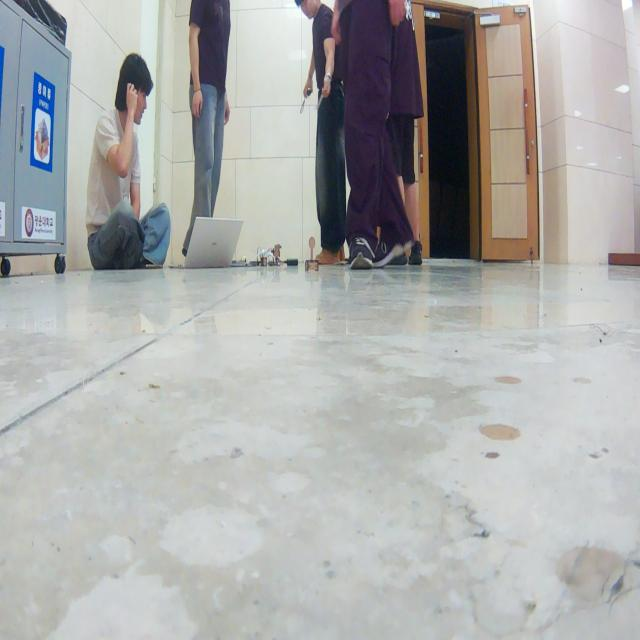target: (305, 236, 319, 272)
